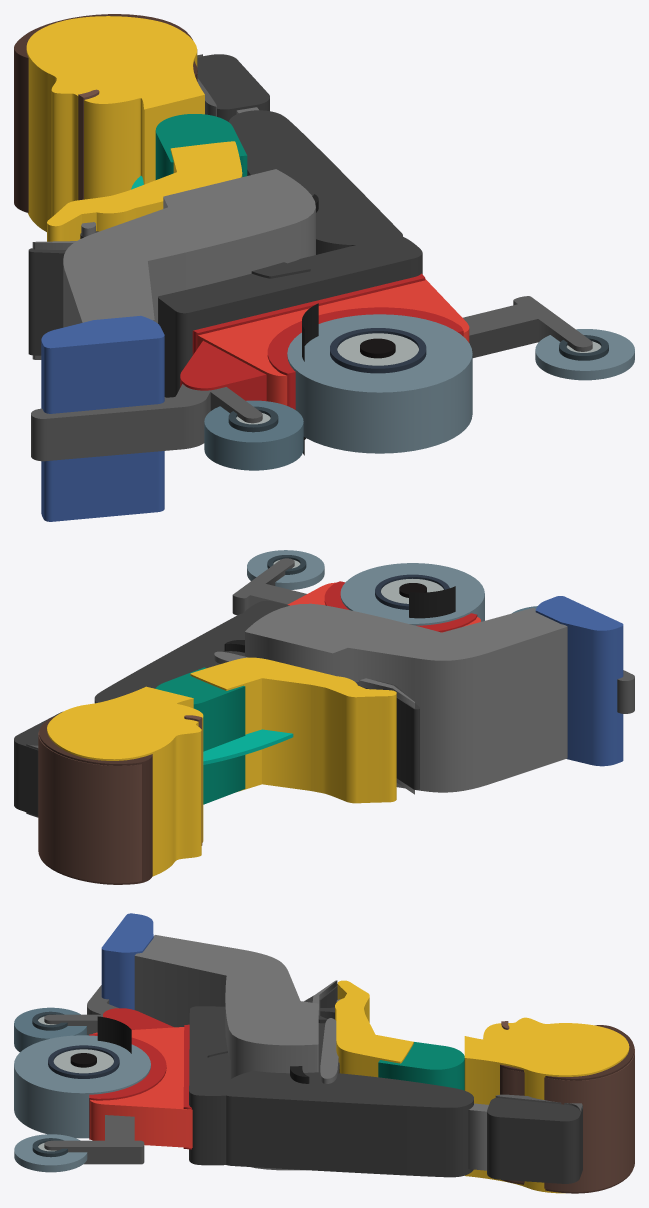
Rendered from emoji_u1f468_200d_1f9bc.glb.
The picture shows the model from 3 angles, top to bottom: view 1: azimuth 30°, elevation 25°; view 2: azimuth 150°, elevation 25°; view 3: azimuth 270°, elevation 25°; orthographic projection. The views are drawn at different scales.
Parts seen in each view (by area): view 1: emoji_u1f468_200d_1f9bc; view 2: emoji_u1f468_200d_1f9bc; view 3: emoji_u1f468_200d_1f9bc.
Part boxes in pixels (box(x1,y1,x2,y2)): emoji_u1f468_200d_1f9bc: box(14, 14, 634, 521); emoji_u1f468_200d_1f9bc: box(14, 550, 634, 884); emoji_u1f468_200d_1f9bc: box(14, 913, 634, 1193).
Bounding box in the file's own units: 0.0242 × 0.0074 × 0.0324.
